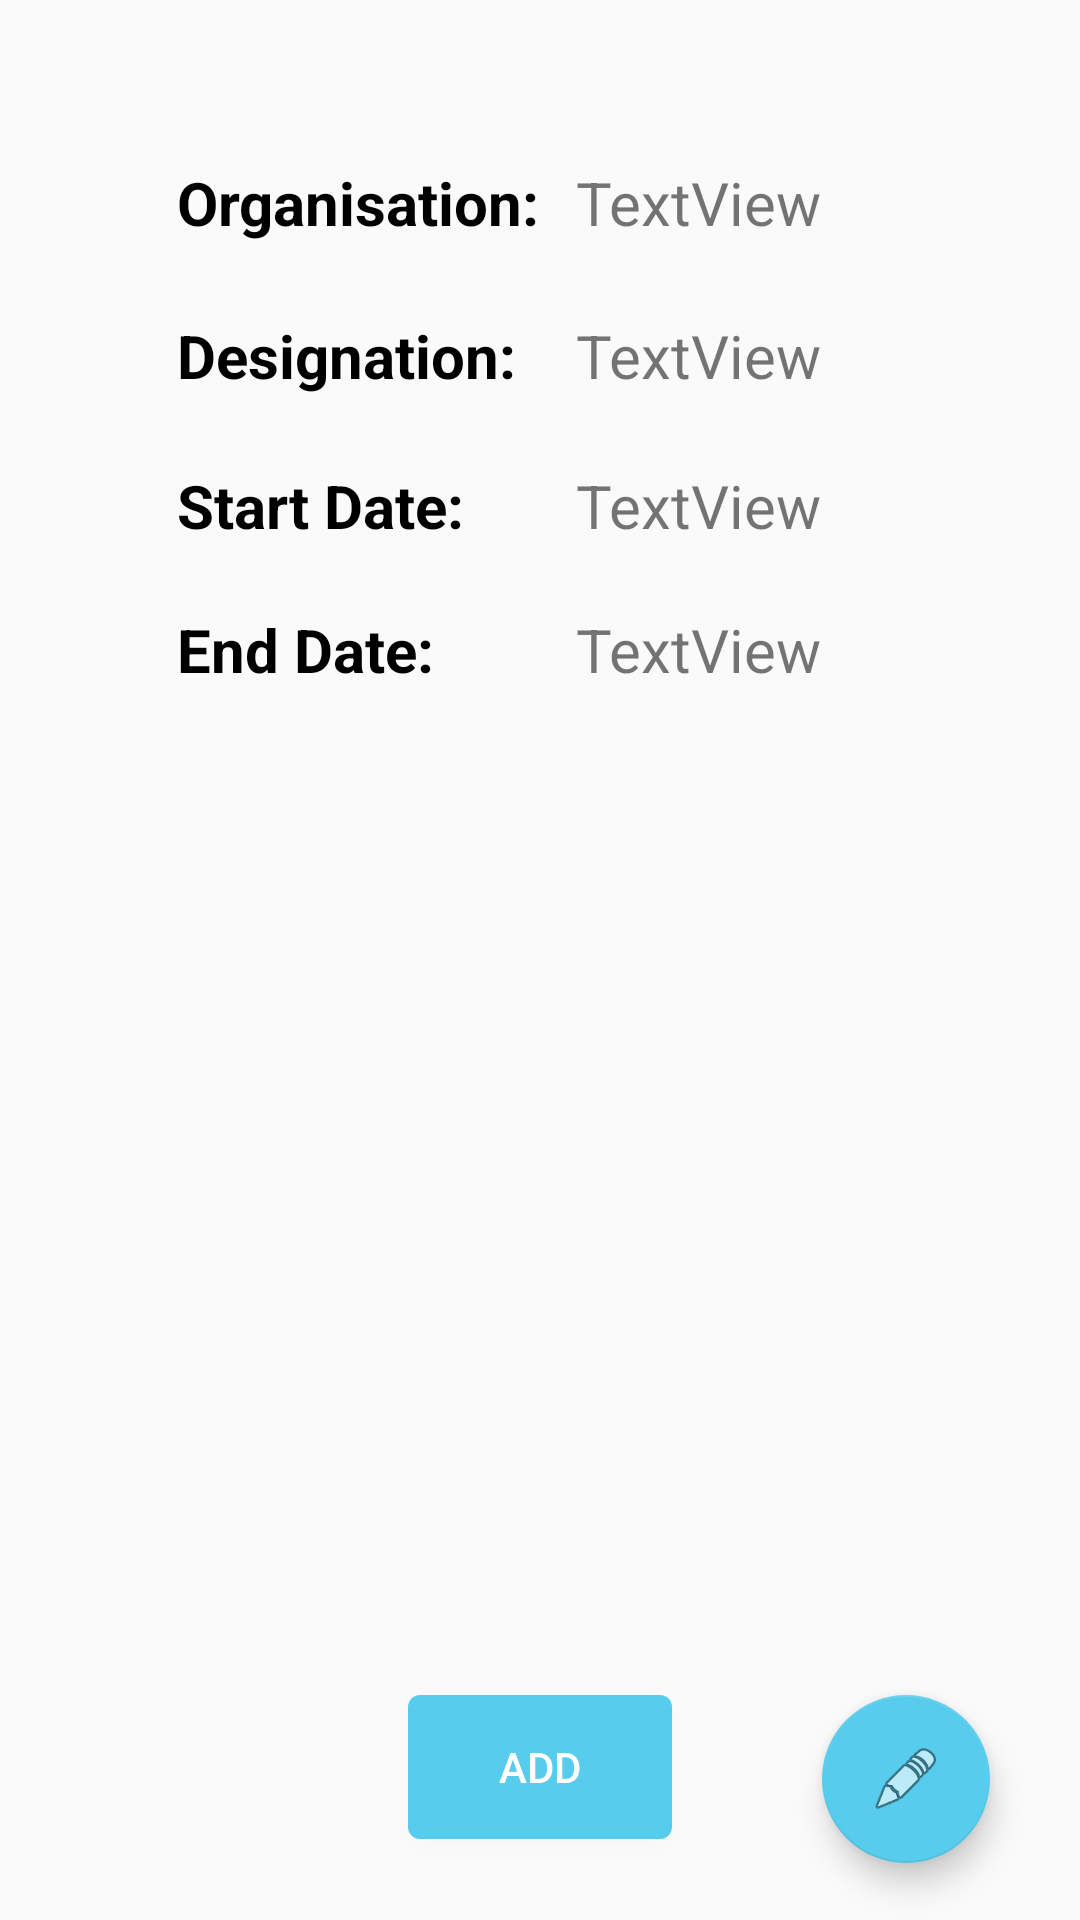

Where icons sit on this 1080 × 1920 app screen, as (x1, y1, x2, y2):
edit: (822, 1695, 990, 1863)
